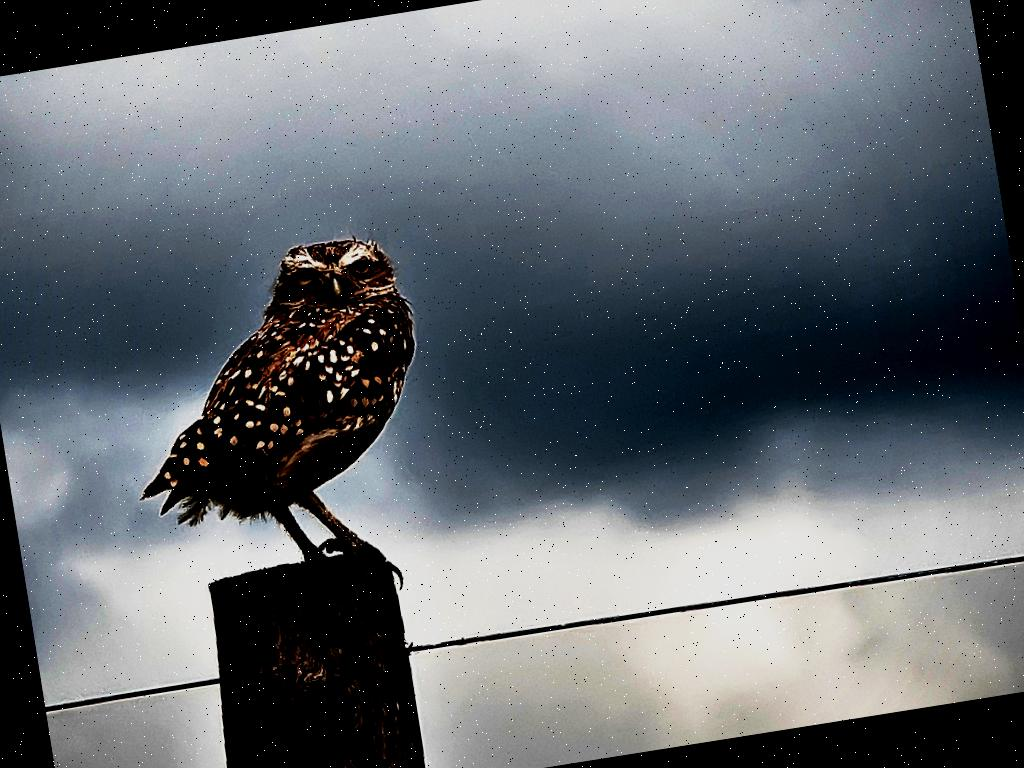Owl: (99, 224, 459, 630)
